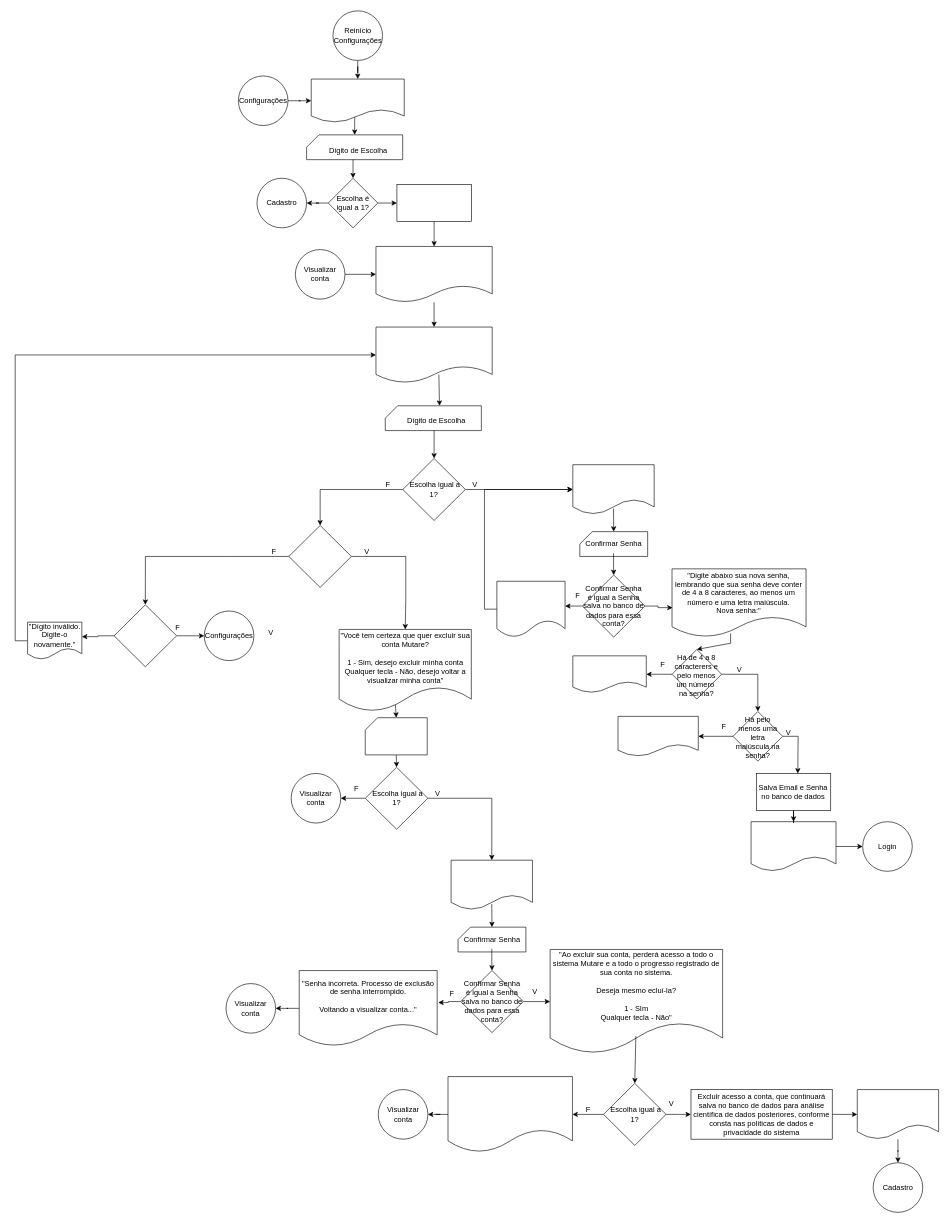
The diagram is 950 pixels wide and 1223 high, and some of its shapes have lost their labels. The centre of each missing label's shape, as x and y in pixels:
"1 - Atualizar Senha 2 - Excluir conta 3 - Voltar às Confirgurações": [433,354]
"Cadastro realizado com sucesso. Realize o login, para acessar o MUTARE ": [793,846]
"CONFIGURAÇÕES 1. Visualizar Conta 2. Sair da Conta": [357,100]
"Confirme sua senha, antes de atualizá-la:": [613,489]
"Confirme sua senha, antes de excluí-la": [491,885]
"INFORMAÇÕES DA CONTA Email: XXXX Senha: XXXX ": [433,274]
"Número de caracteres inválido. Digite novamente.": [609,674]
"Processo de exclusão de senha interrompido. Voltando a visualizar conta... ": [509,1114]
"Senha incorreta. Digite-a novamente.": [530,609]
"Sua conta foi exlcuída com sucesso.": [898,1114]
Escolha: [396,736]
Escolha igual a 2?: [319,556]
Escolha igual a 3?: [145,635]
Não há letra maiúscula. Digite a senha novamente: [657,736]
Sistema busca informações da conta no banco de dados: [433,203]
